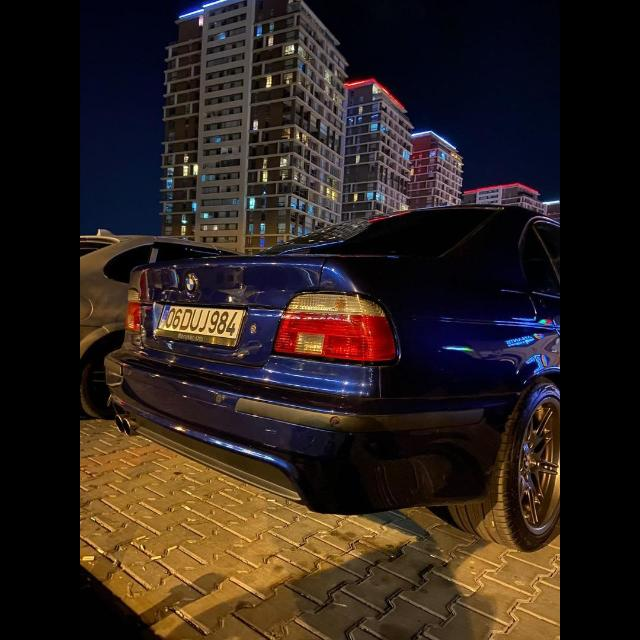Plaka: (158, 307, 248, 341)
